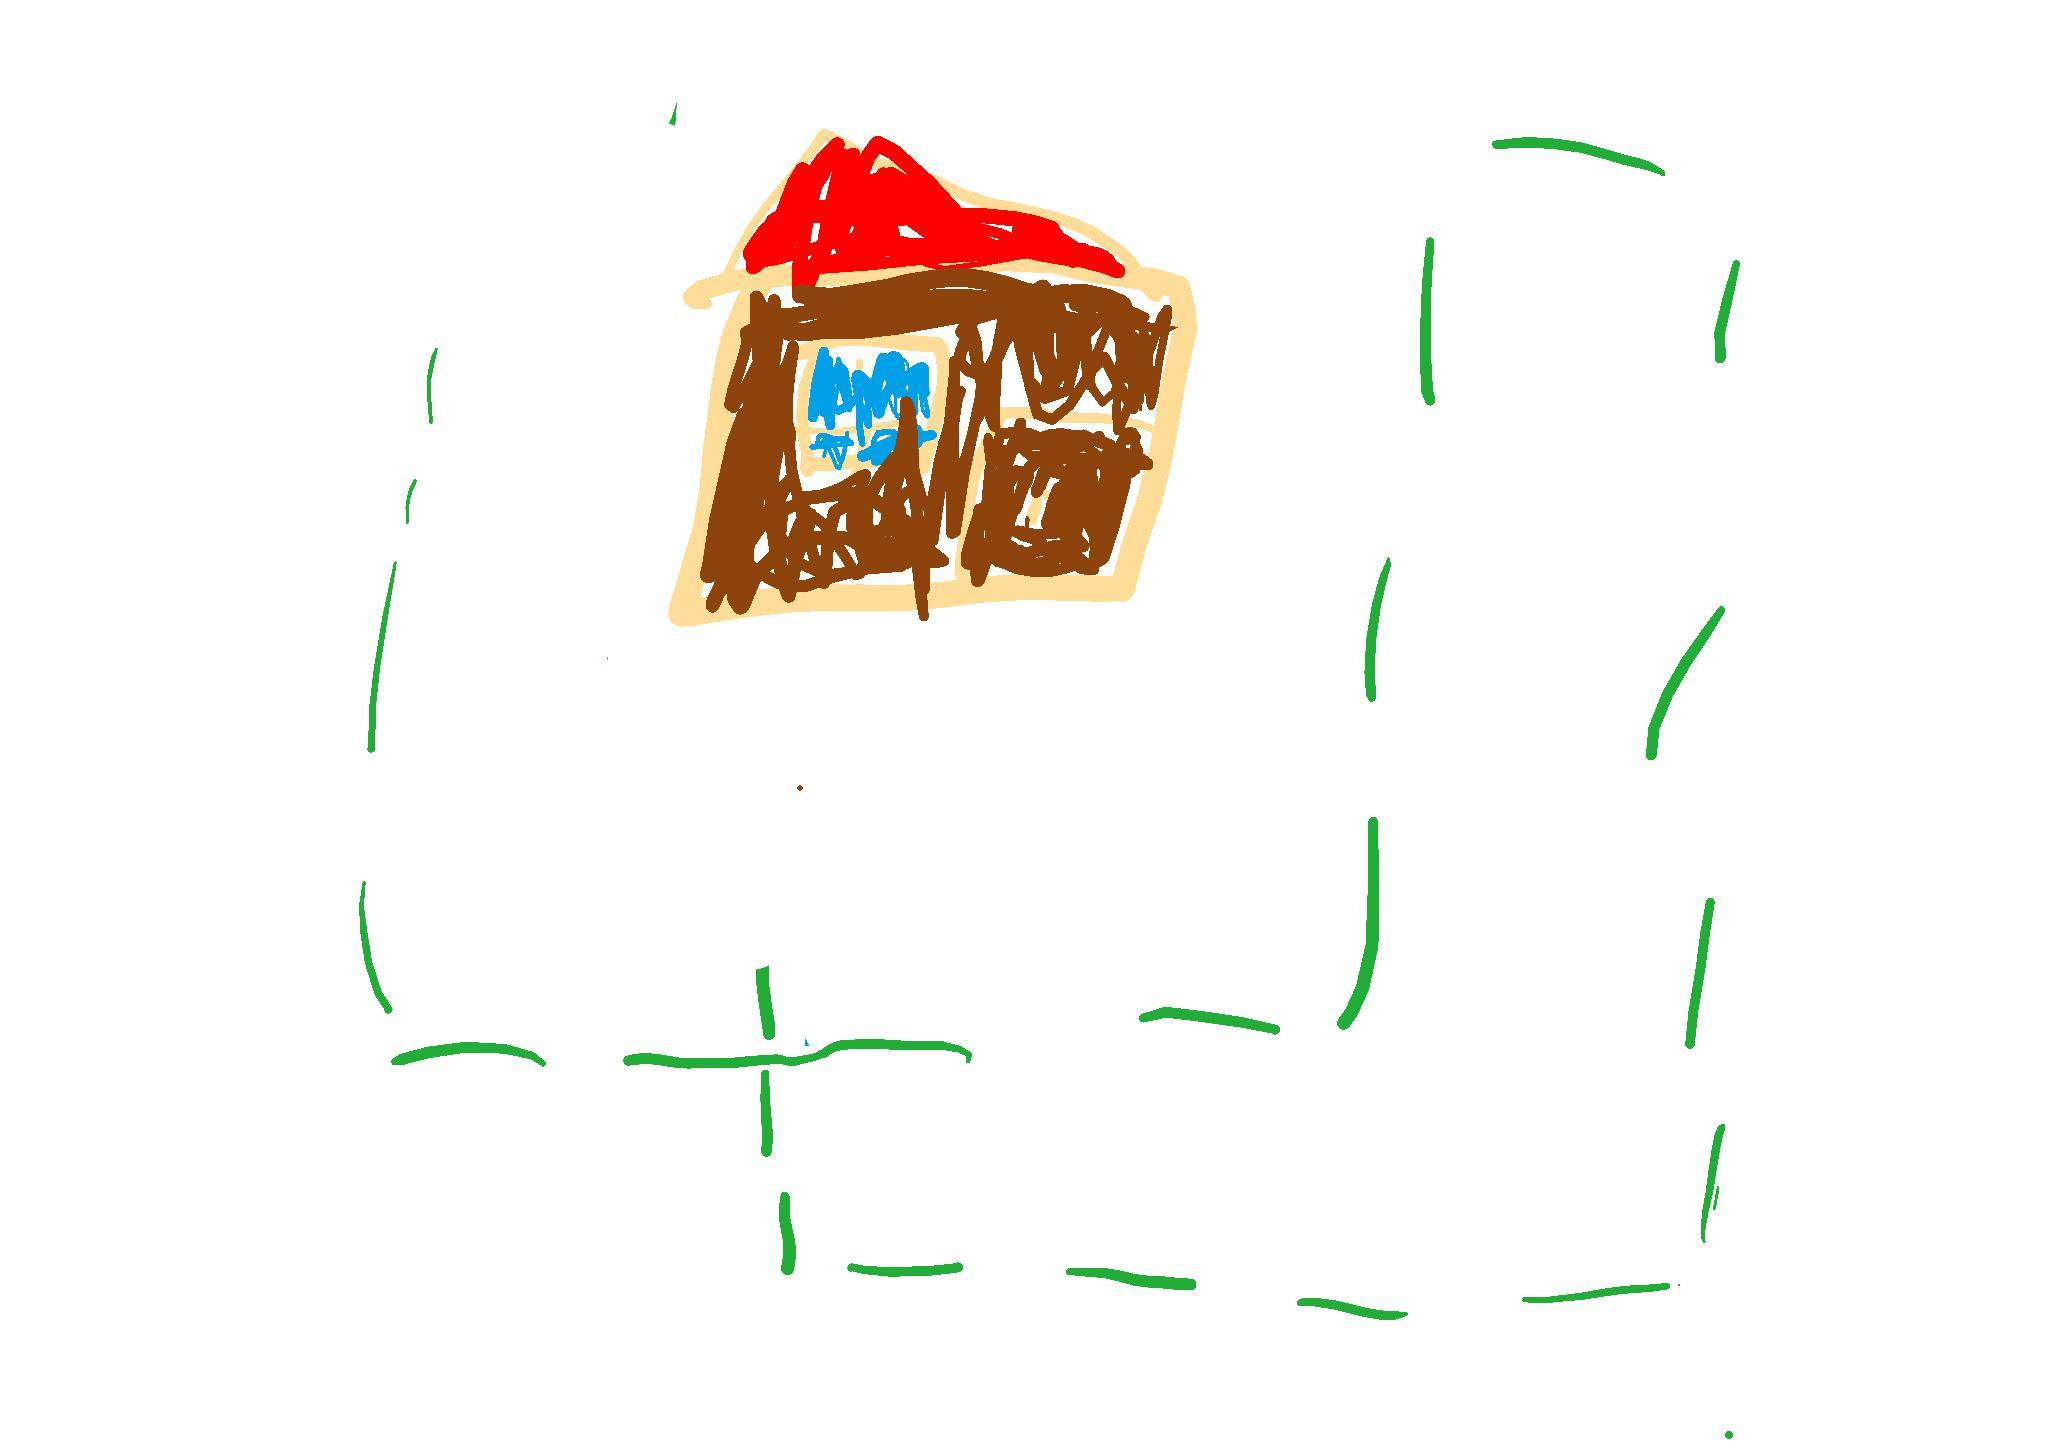door: (966, 417, 1159, 585)
house: (670, 129, 1196, 624)
roof: (742, 133, 1126, 284)
wall: (692, 271, 1176, 613)
window: (790, 343, 939, 489)
